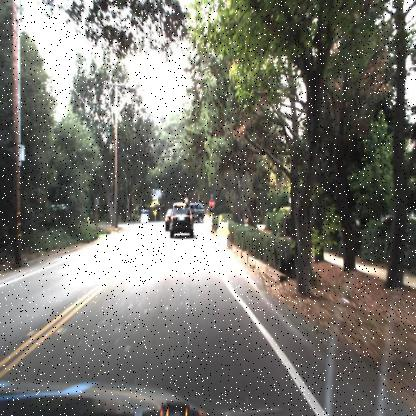car: (169, 199, 194, 241), (192, 200, 208, 224), (163, 203, 171, 233), (165, 210, 173, 230)
